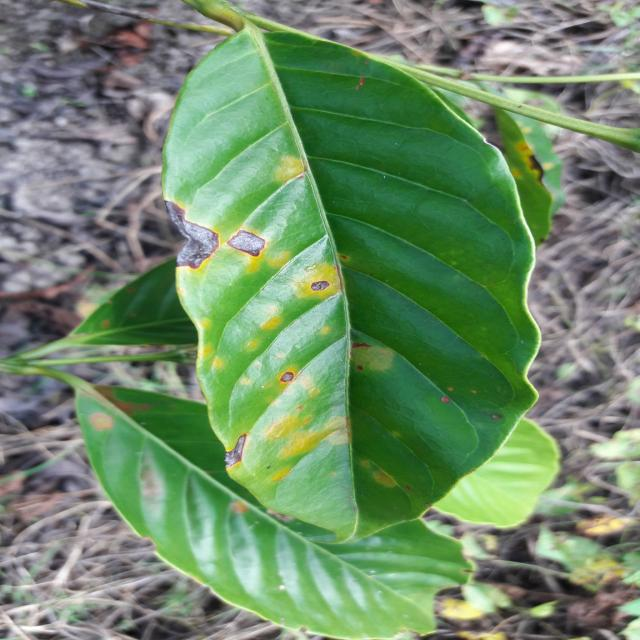Enfermedad-Roya: (161, 25, 544, 540)
